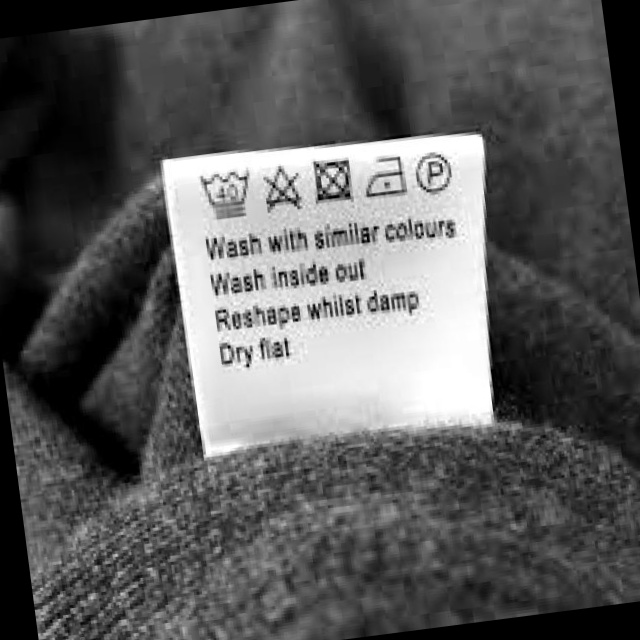40C: (199, 162, 260, 225)
DN_bleach: (257, 159, 308, 216)
DN_tumble_dry: (308, 153, 359, 211)
dry_clean_any_solvent_except_trichloroethylene: (409, 147, 460, 199)
iron_low: (361, 148, 410, 203)
